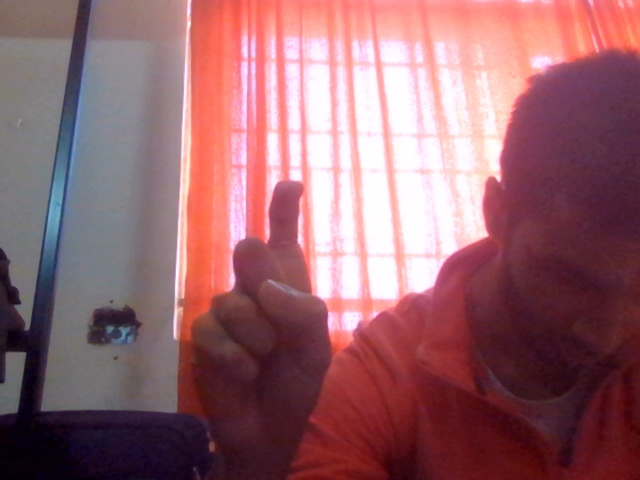X: (160, 153, 362, 480)
